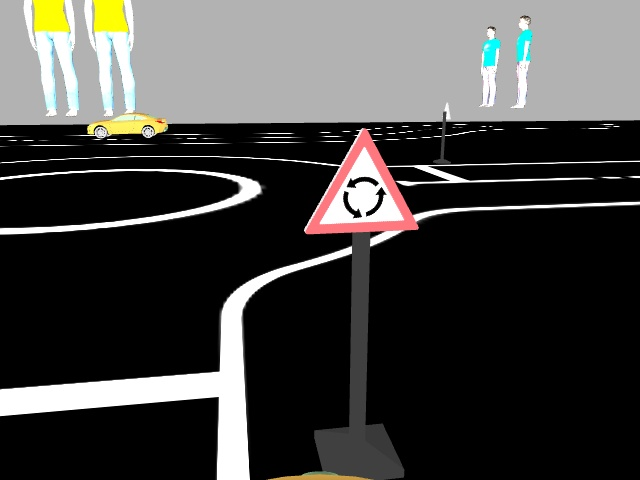Roundabout: (301, 125, 421, 232)
